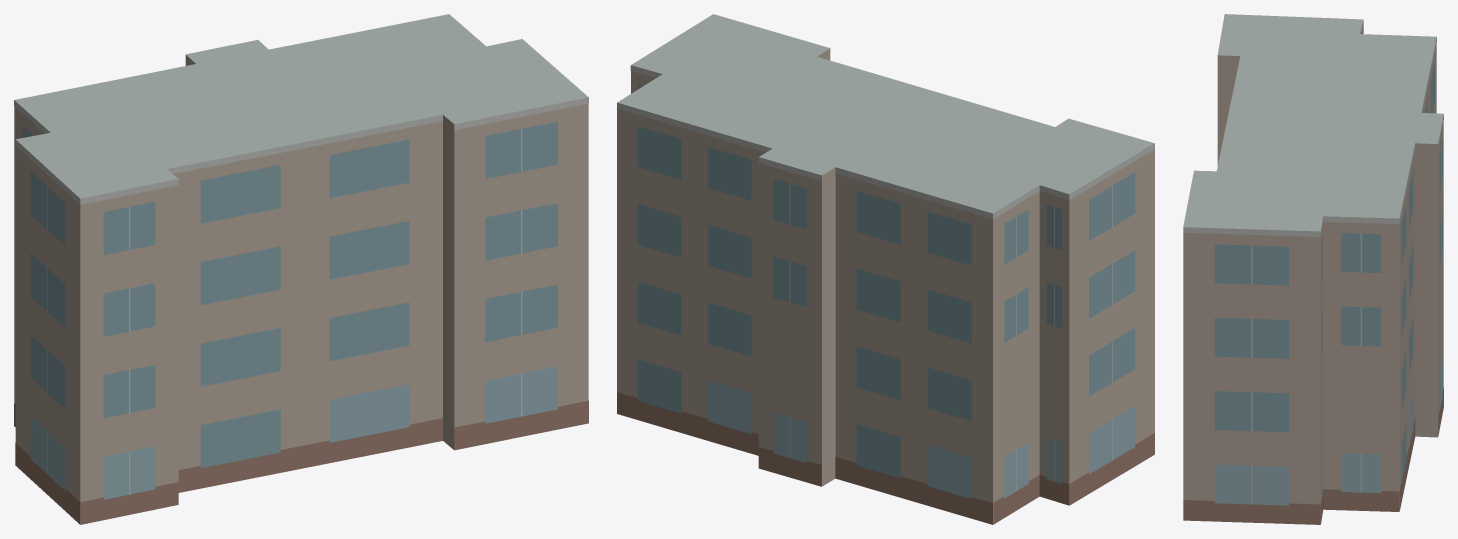
The model's file is survey-upis-32699047.glb.
3 renders of one model, left to right at view 1: azimuth 30°, elevation 25°; view 2: azimuth 150°, elevation 25°; view 3: azimuth 270°, elevation 25°, orthographic. The views are drawn at different scales.
Parts seen in each view (by area): view 1: survey-upis-32699047.tmp; view 2: survey-upis-32699047.tmp; view 3: survey-upis-32699047.tmp.
Part boxes in pixels (left/top/right/bottom): survey-upis-32699047.tmp: left=14, top=14, right=588, bottom=524; survey-upis-32699047.tmp: left=617, top=14, right=1154, bottom=524; survey-upis-32699047.tmp: left=1183, top=14, right=1443, bottom=524.
Bounding box in the file's own units: 20.36 × 12.8 × 10.32.
